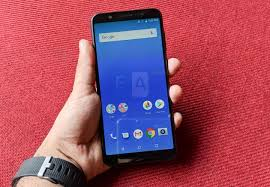asus: (86, 5, 176, 166)
